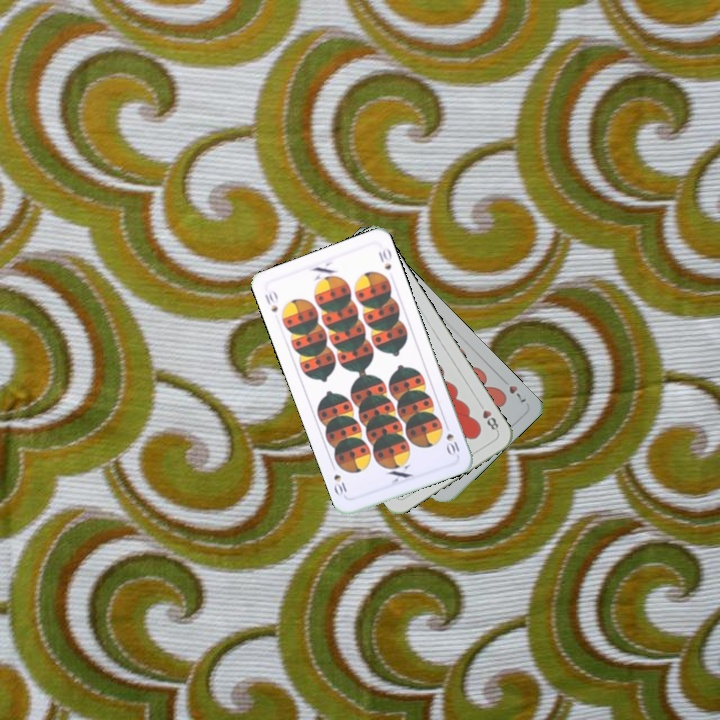H7: (497, 374, 529, 405)
H8: (474, 398, 501, 435)
S10: (441, 419, 462, 459), (260, 286, 280, 315)
